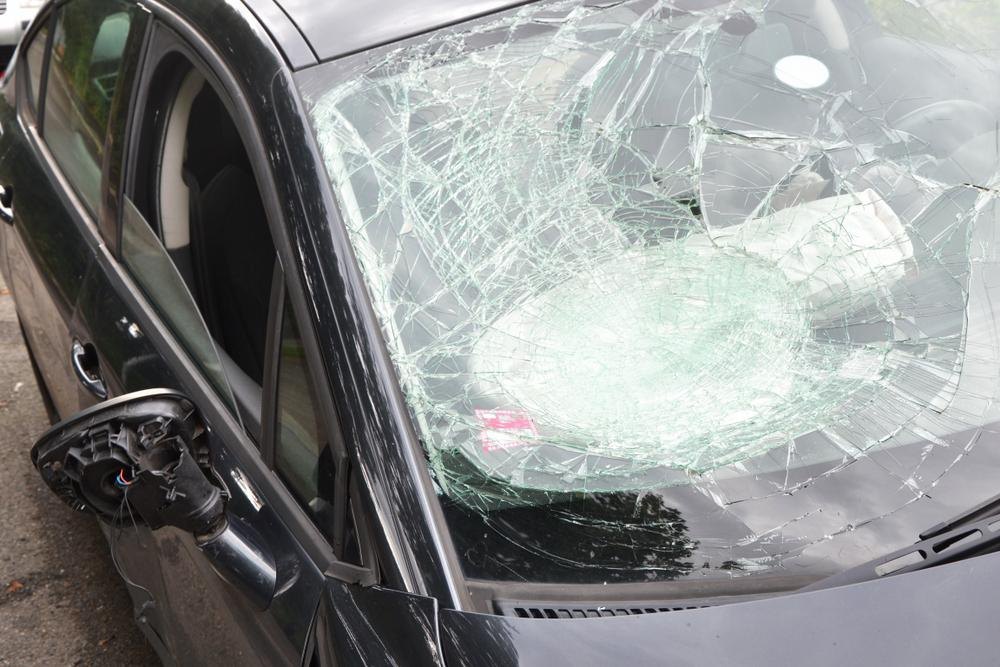glass shatter: (290, 0, 1000, 585)
